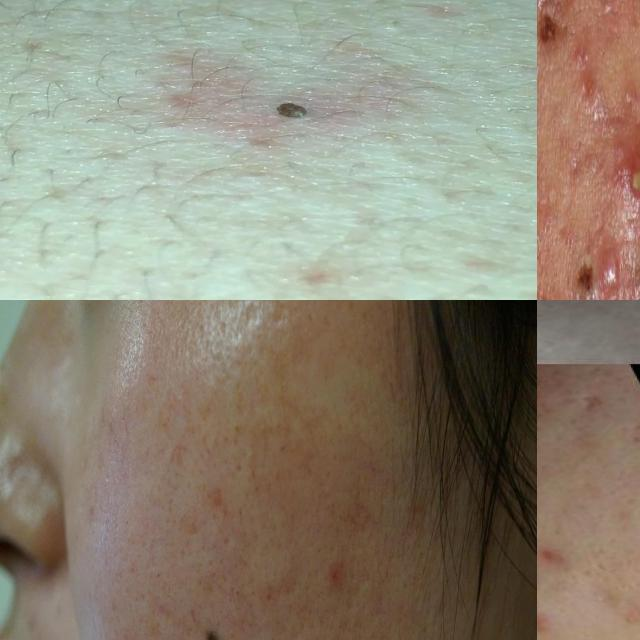comedone: (252, 96, 319, 128), (197, 627, 226, 640)
crystanlline: (612, 138, 640, 212)
papule: (594, 229, 625, 300)
